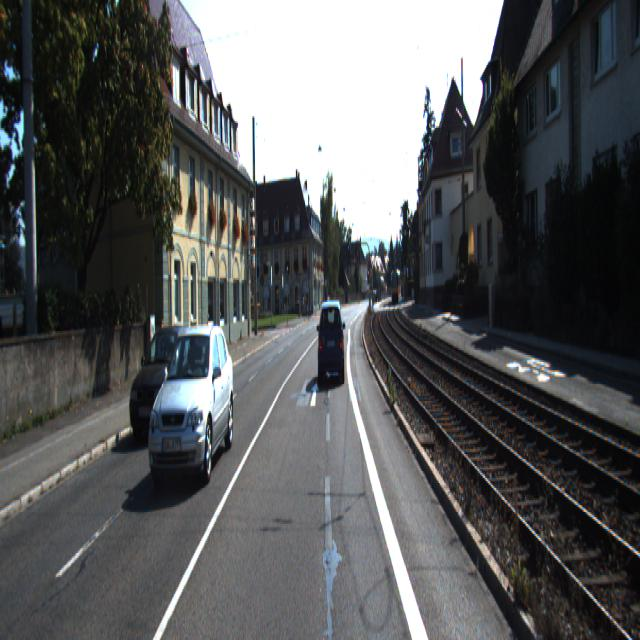Car: (150, 318, 235, 489), (129, 321, 199, 440), (318, 298, 346, 386)
